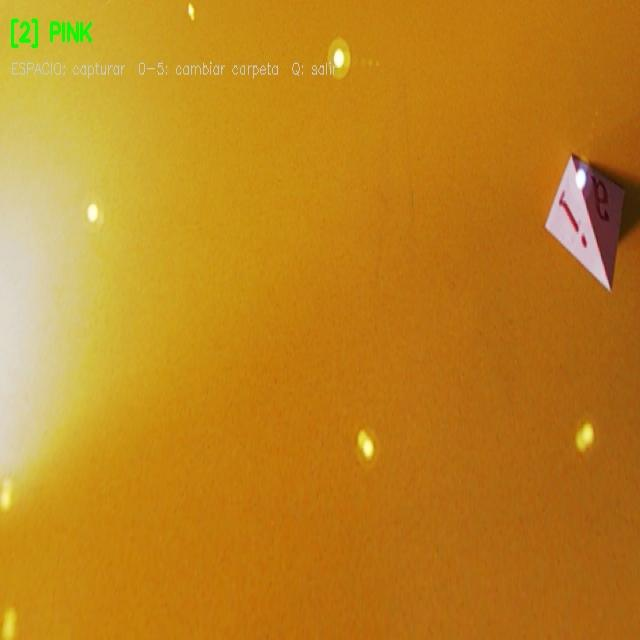pink: (542, 152, 626, 292)
